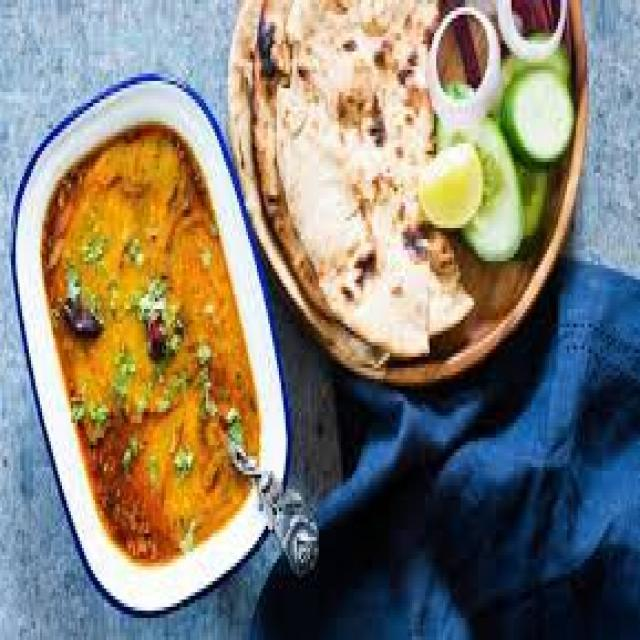Daal: (33, 144, 279, 581)
Roti: (215, 0, 463, 390)
